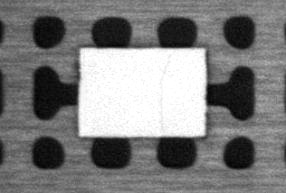DIE_CRACK: (157, 52, 177, 129)
